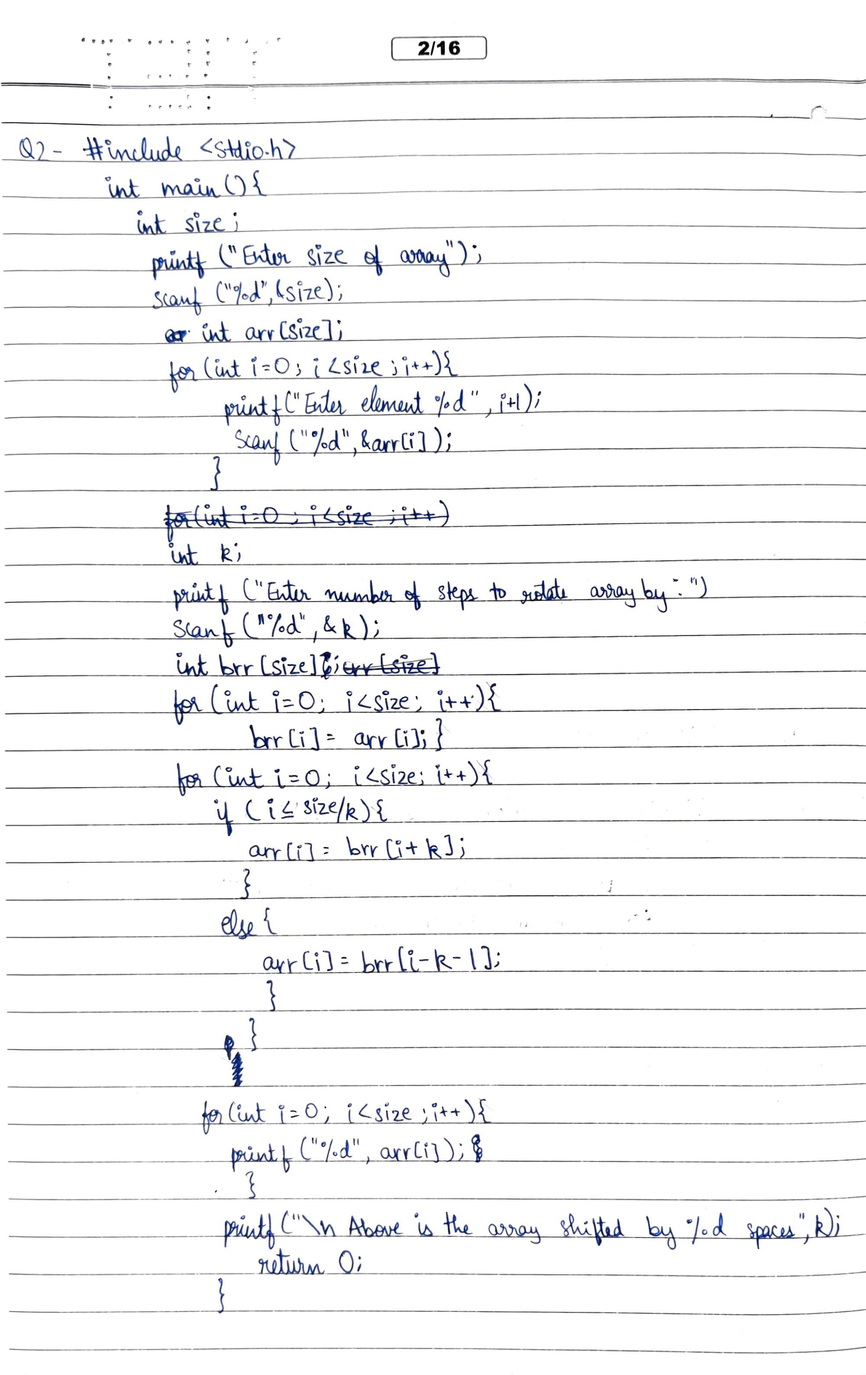cuttings: (163, 497, 452, 543), (341, 651, 442, 677), (468, 1131, 484, 1164), (231, 1051, 244, 1087), (163, 327, 190, 344), (224, 1034, 235, 1061)
